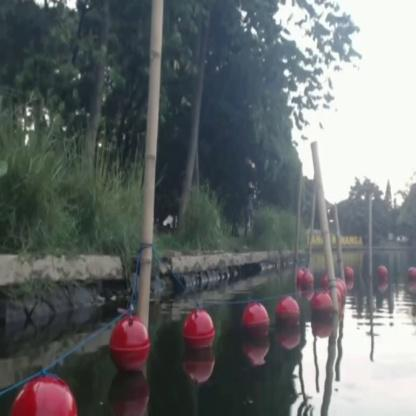red_buoy: (14, 377, 72, 415), (112, 321, 148, 370), (186, 310, 212, 353), (244, 308, 266, 345), (278, 298, 300, 332), (312, 293, 332, 328), (298, 268, 312, 290), (406, 262, 415, 288), (339, 282, 346, 309), (378, 267, 388, 285), (346, 268, 356, 284)
